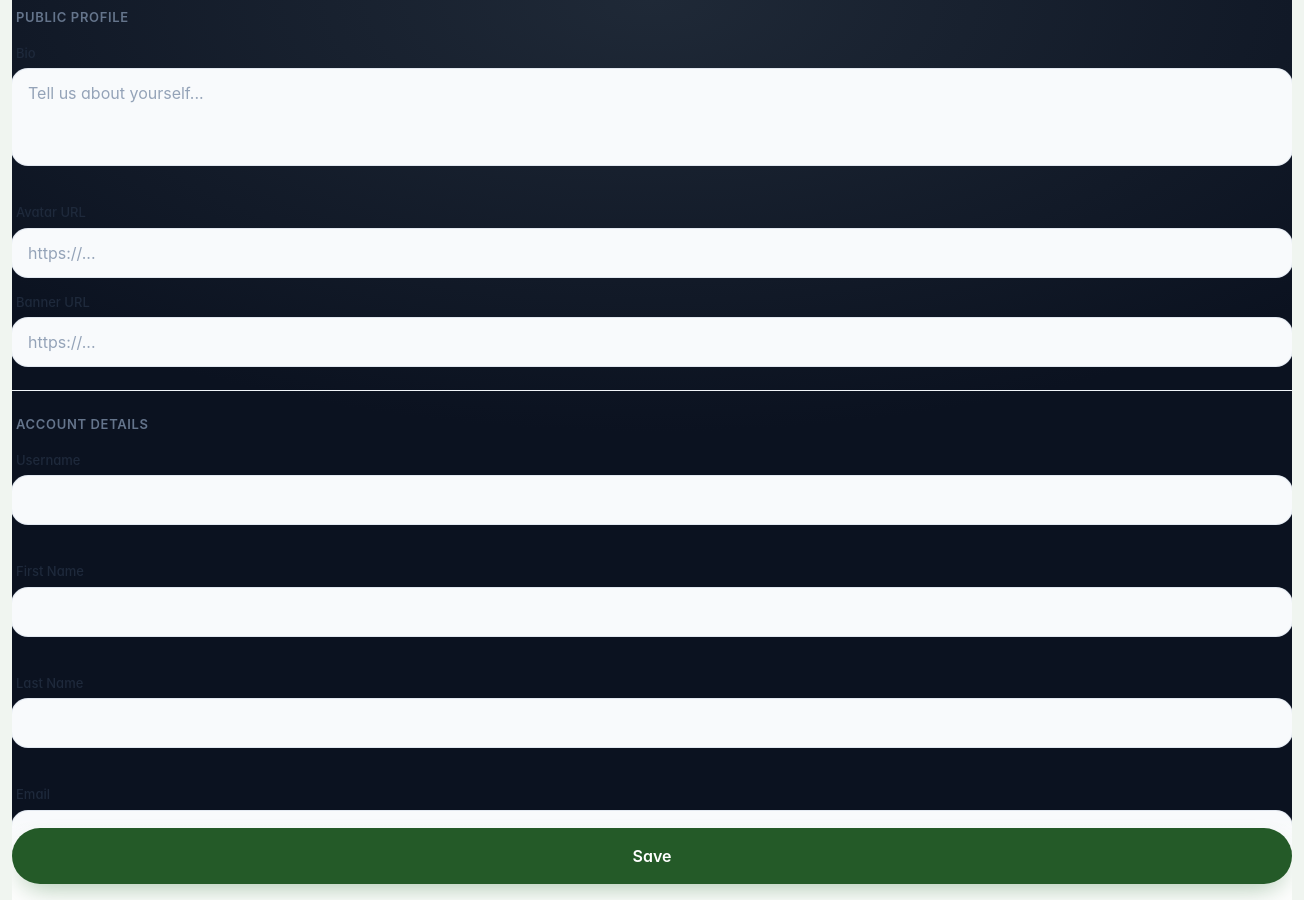
Test: ProfileForm Component › shows validation errors for empty fields
Click the button "Save": [652, 856] box x1=12 y1=828 x2=1292 y2=884
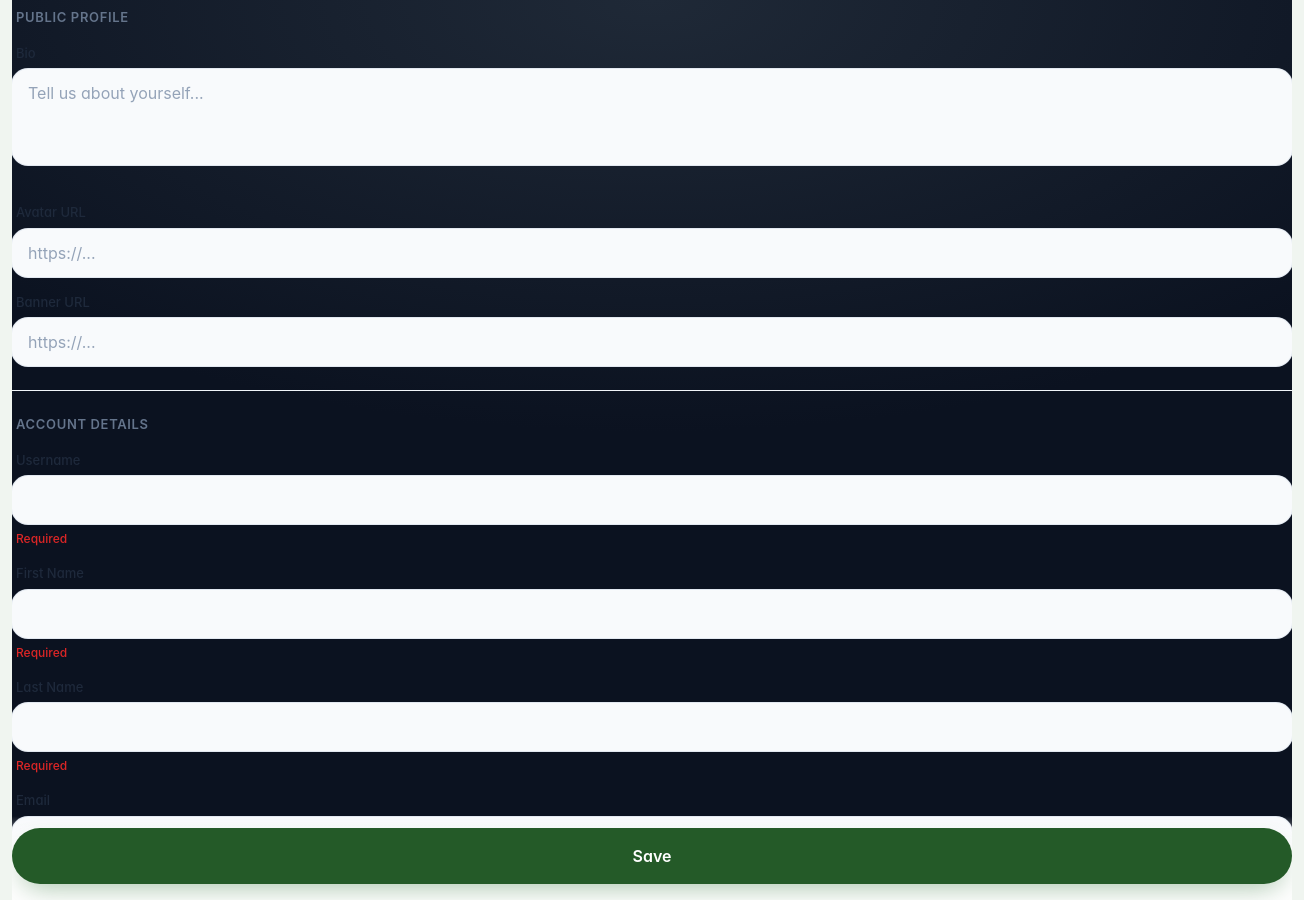
expect the text "Required" below "Username" is shown: met, box x1=16 y1=531 x2=67 y2=546
